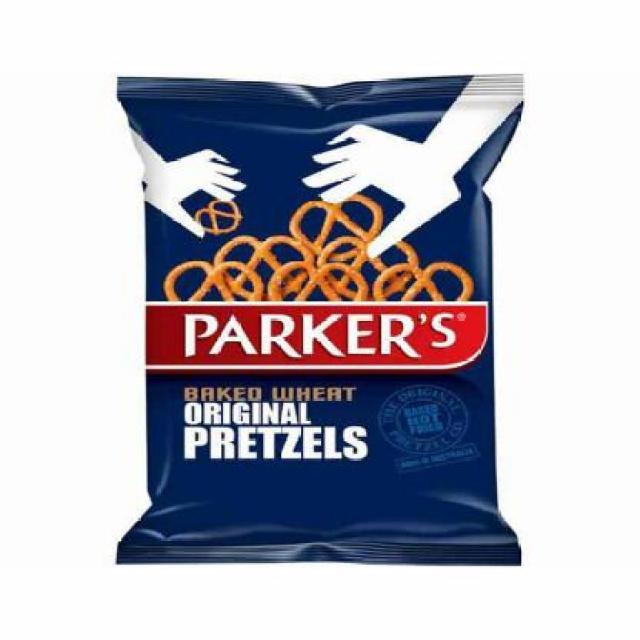Salatini: (109, 73, 528, 578)
